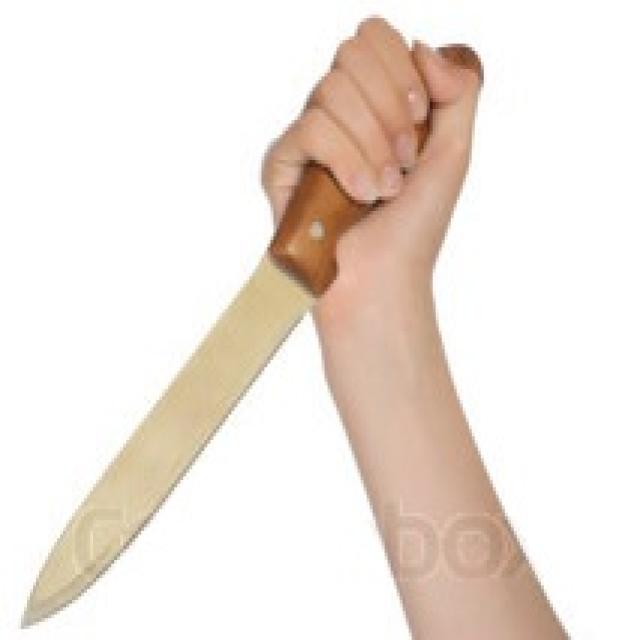knife: (19, 187, 362, 630)
